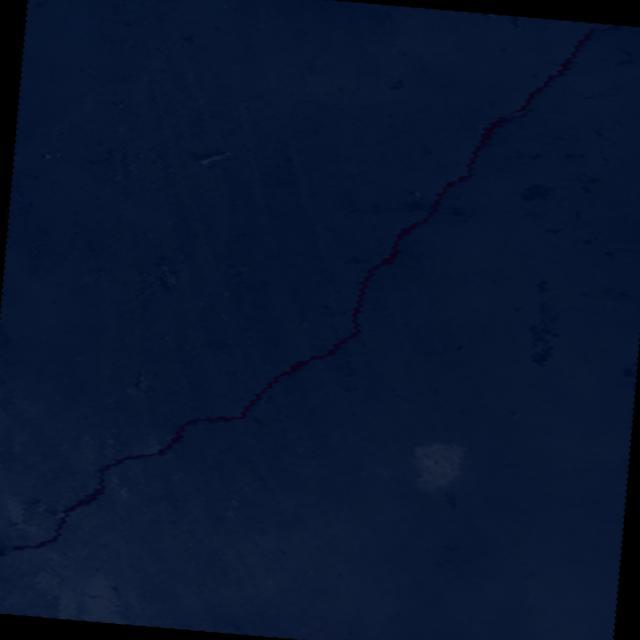crack: (0, 0, 619, 620)
